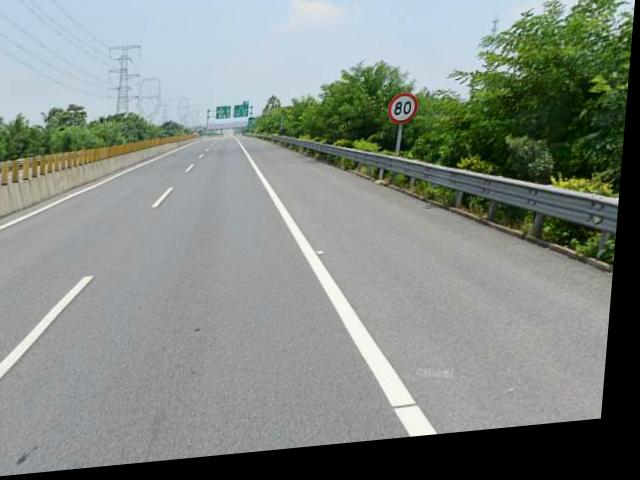limit80: (389, 100, 422, 133)
